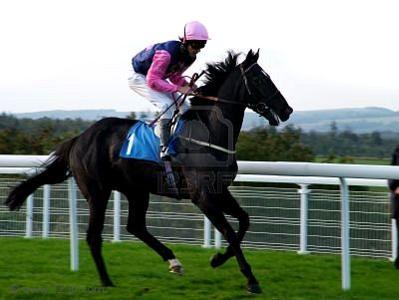person: (129, 20, 211, 160)
